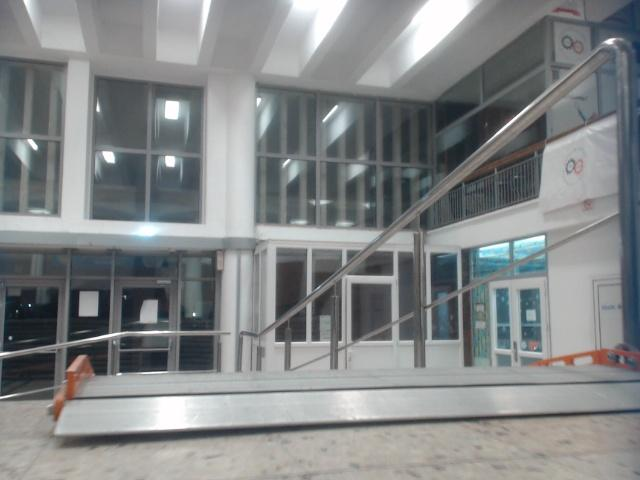rampDown: (51, 347, 639, 437)
ramps-railing: (227, 35, 639, 371), (295, 208, 615, 368), (0, 330, 232, 373), (413, 207, 430, 369), (328, 277, 346, 370)
